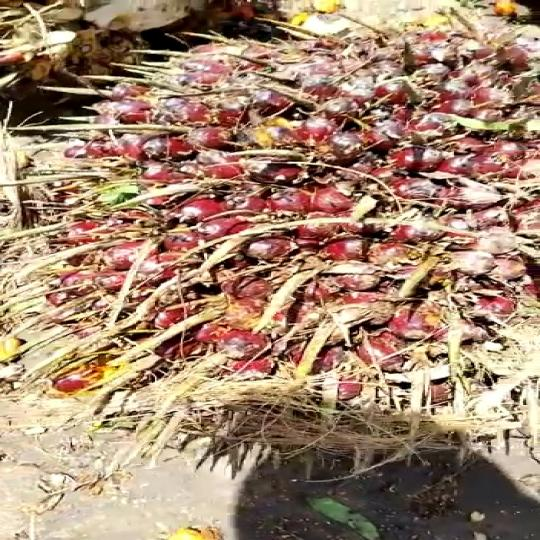masak: (35, 21, 540, 460)
